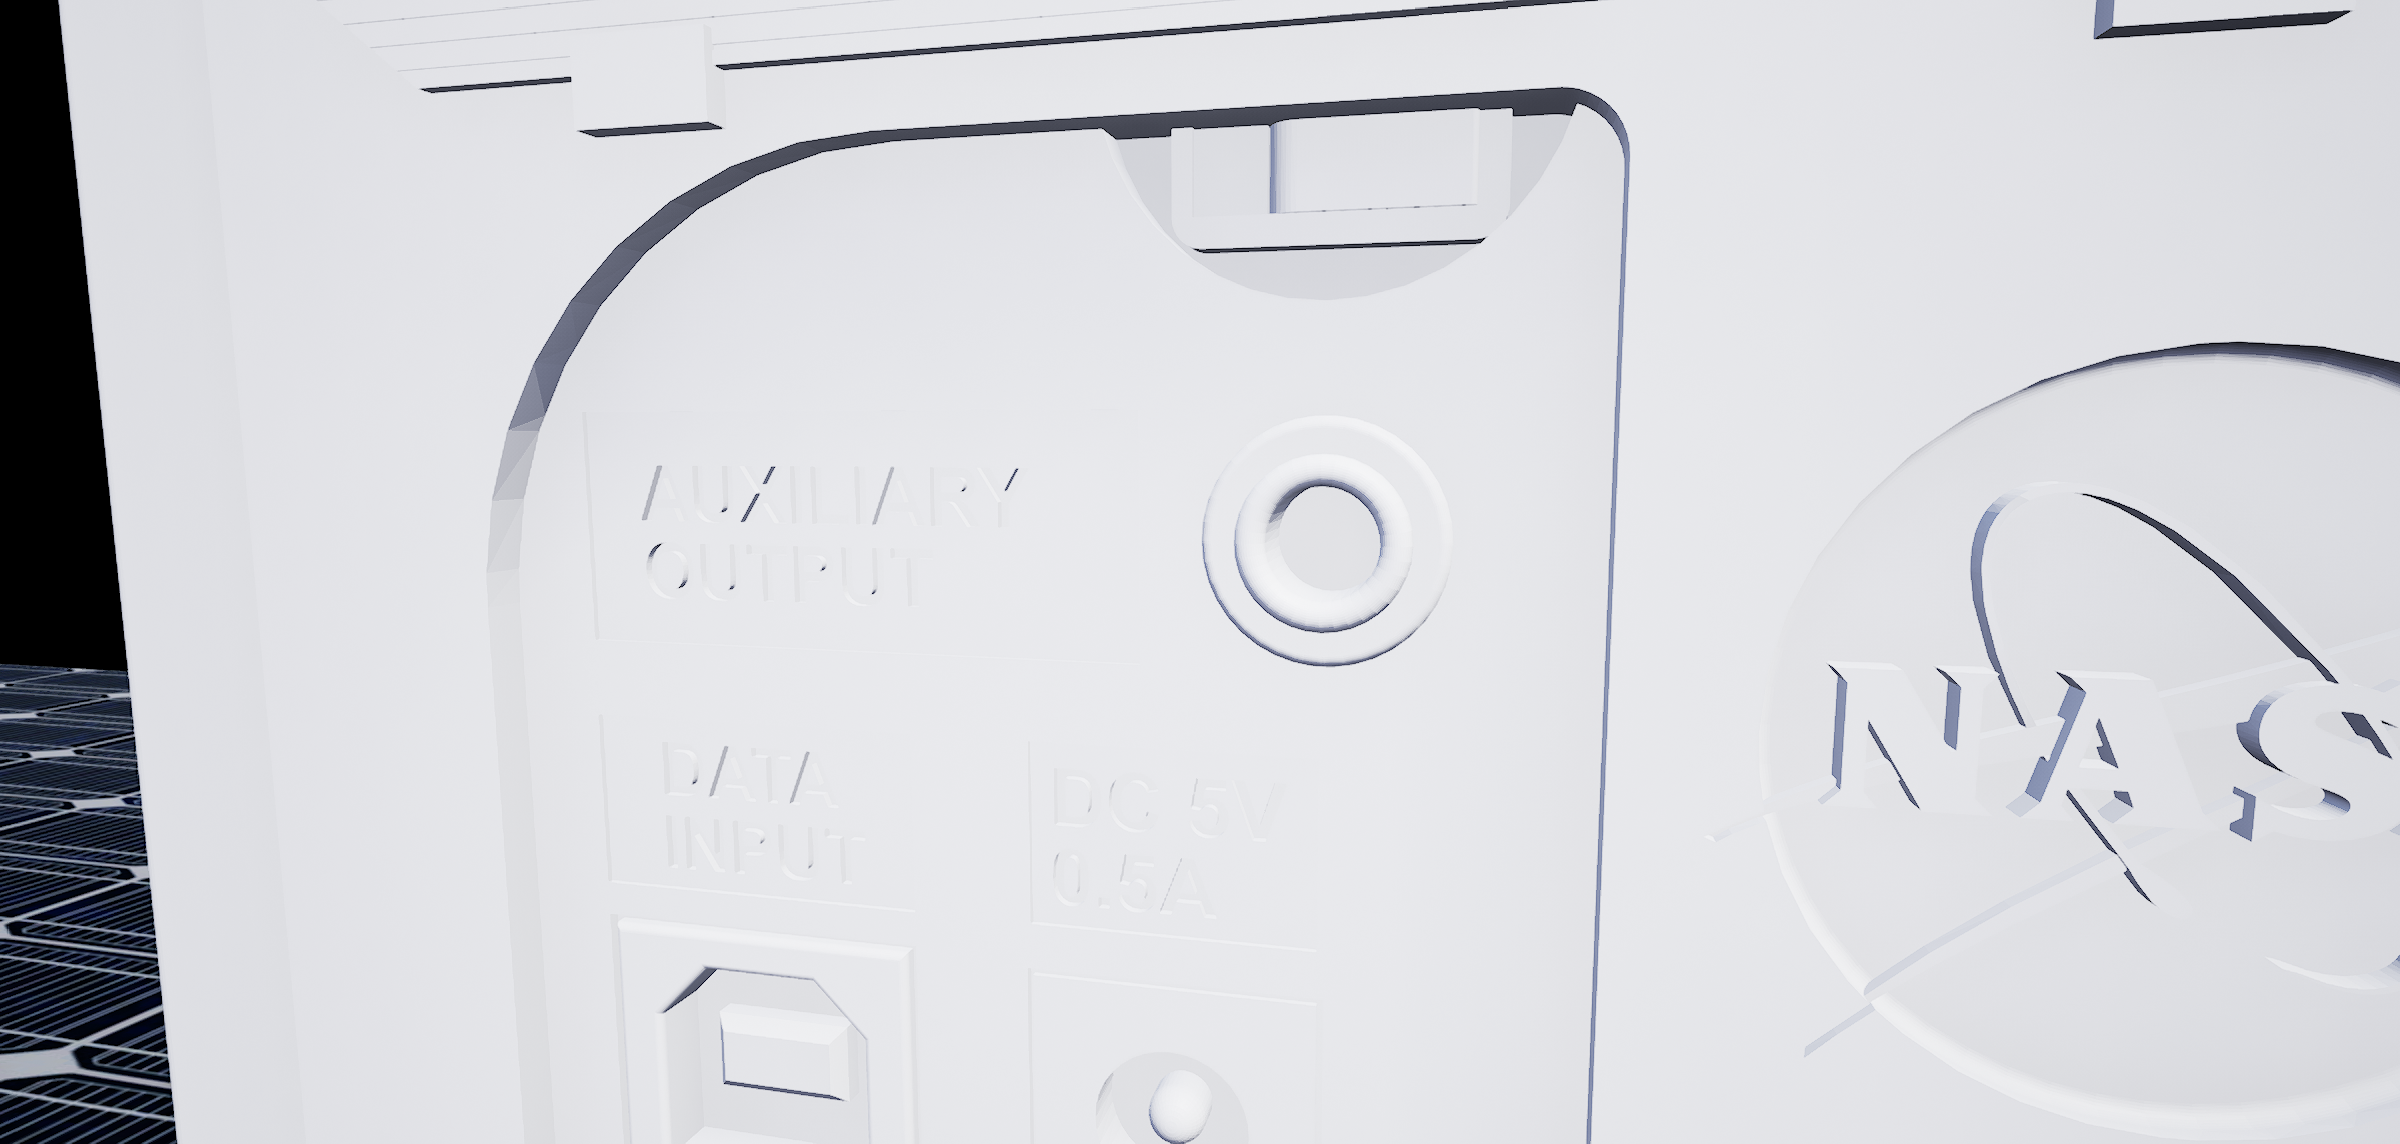aux: (1185, 387, 1462, 695)
dc: (1074, 1054, 1257, 1144)
usb: (651, 962, 879, 1144)
